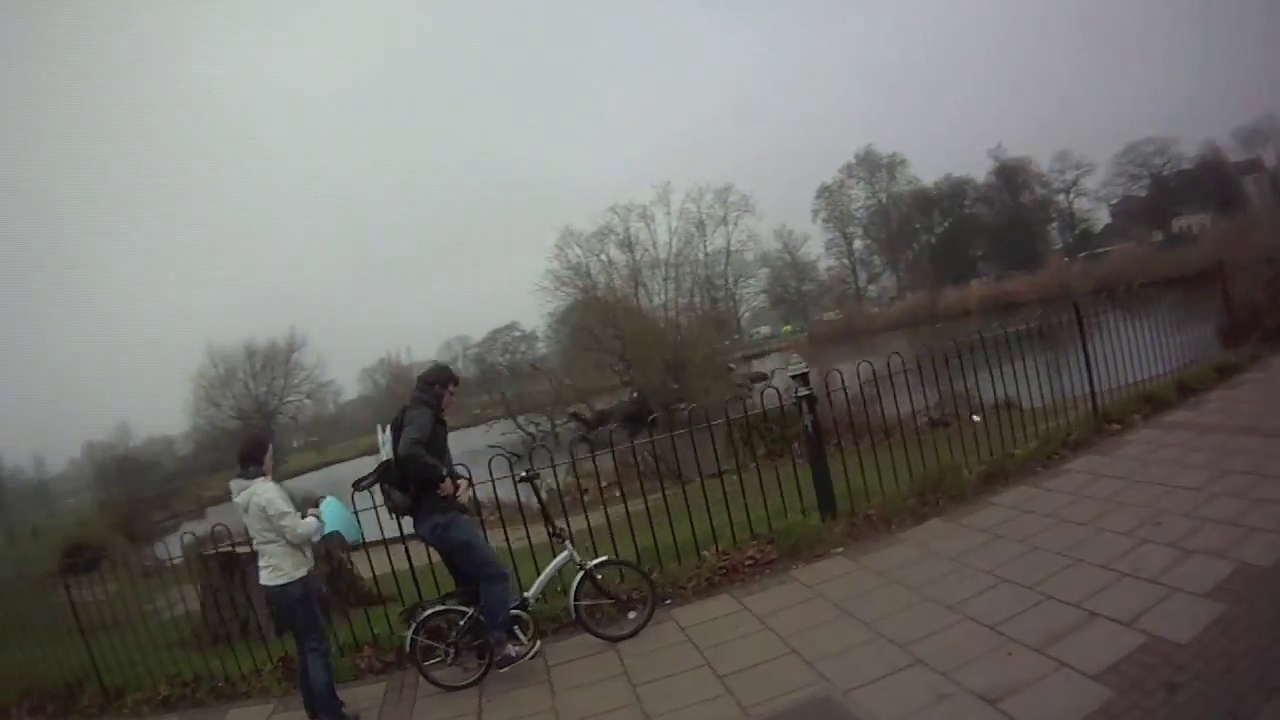cyclist_side: (347, 366, 679, 682)
